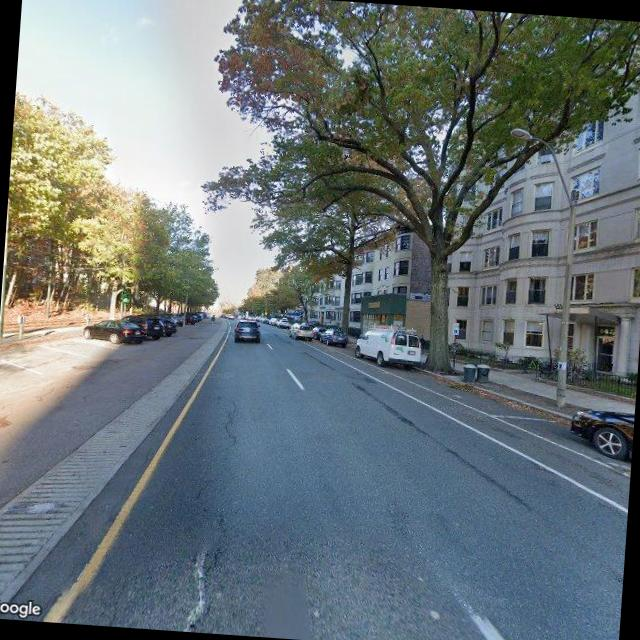crack: (216, 394, 243, 450)
